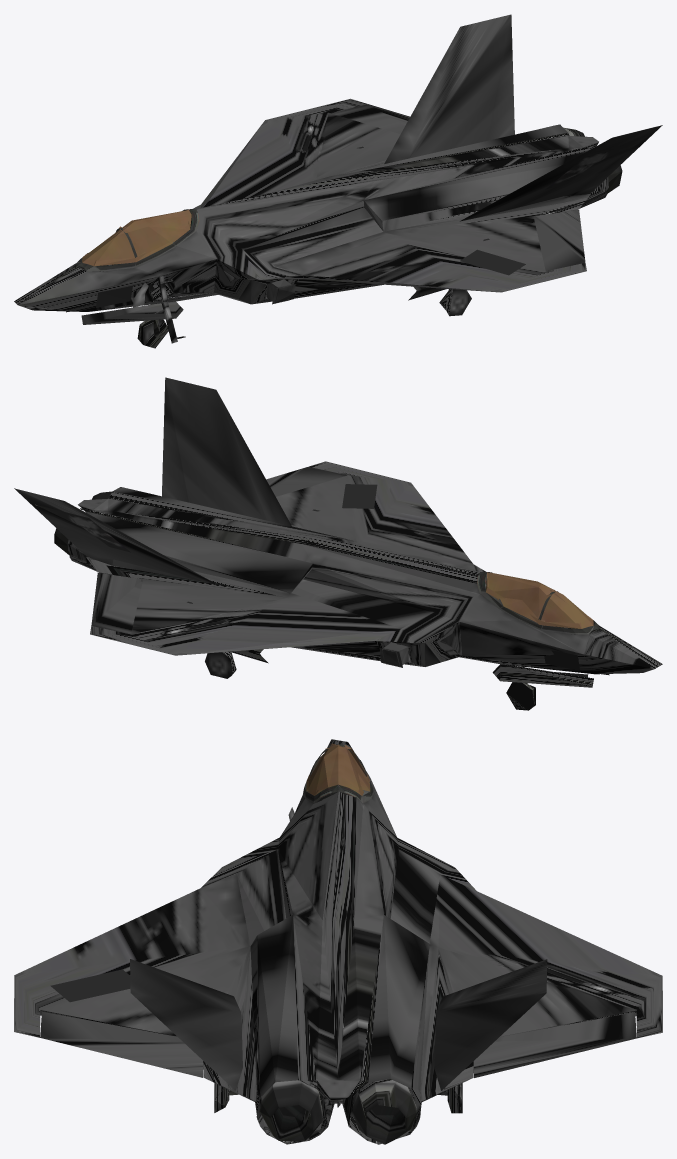
The picture shows the model from 3 angles, top to bottom: view 1: azimuth 30°, elevation 25°; view 2: azimuth 150°, elevation 25°; view 3: azimuth 270°, elevation 25°; orthographic projection. The views are drawn at different scales.
Visible parts, largest first — view 1: Object_2, Object_4, Object_8, Object_3, Object_12; view 2: Object_2, Object_4, Object_8, Object_3, Object_12; view 3: Object_2, Object_4, Object_8, Object_3.
Part boxes in pixels (<box>): Object_2: <box>14,14,662,348</box>; Object_4: <box>82,210,191,266</box>; Object_8: <box>96,146,525,307</box>; Object_3: <box>76,209,199,271</box>; Object_12: <box>545,142,638,189</box>; Object_2: <box>14,377,662,710</box>; Object_4: <box>487,572,593,628</box>; Object_8: <box>187,484,579,670</box>; Object_3: <box>477,571,599,634</box>; Object_12: <box>35,504,130,552</box>; Object_2: <box>14,739,662,1144</box>; Object_4: <box>306,743,370,795</box>; Object_8: <box>50,787,332,1002</box>; Object_3: <box>303,744,373,803</box>.
Bounding box in the file's own units: 2.5 × 0.7035 × 1.75.
Materials: 13 (11 with a texture image).
